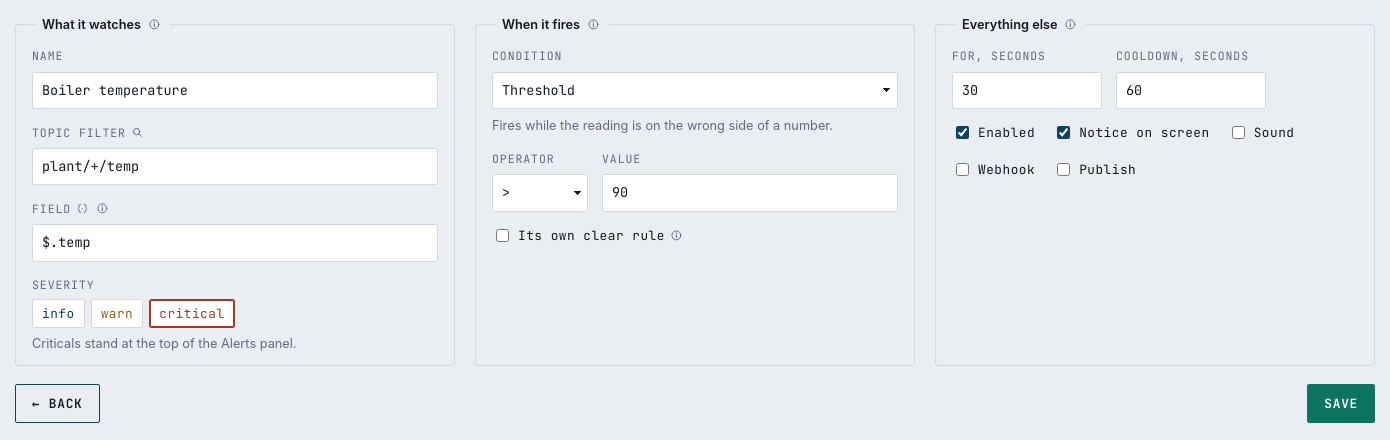
Test: the rule editor › says what the level decides, which is no longer how long anything survives
This screenshot has width=1390, height=440.
Expected: the text "Criticals stand at the top of the Alerts panel." is shown, [32,336,296,351]
Click the radio button labelled "warn": x=117, y=313 [91,298,143,328]
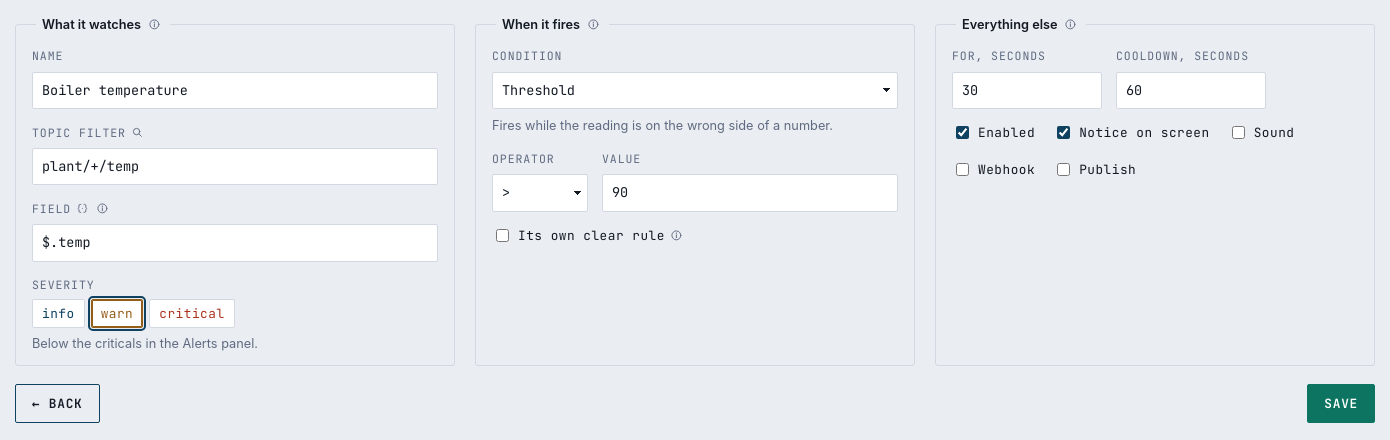
Result: the text "Below the criticals in the Alerts panel." is shown at [32,336,258,351]
